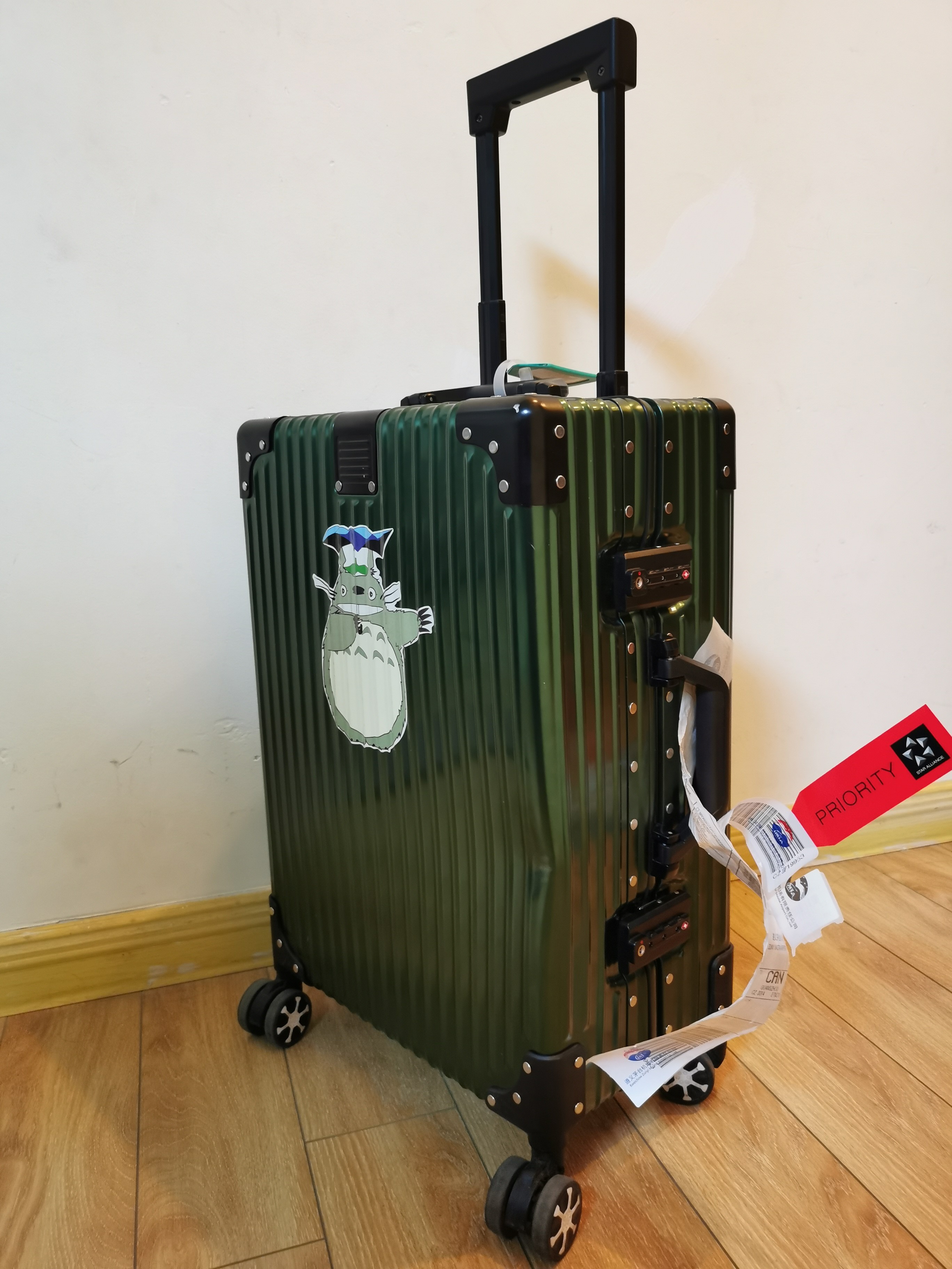rupture: (514, 808, 555, 934)
